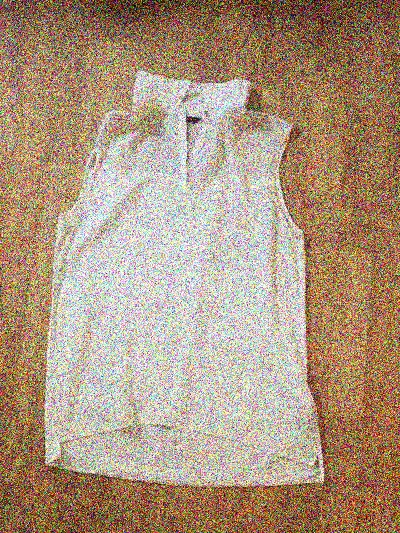Blouse: (37, 58, 362, 505)
